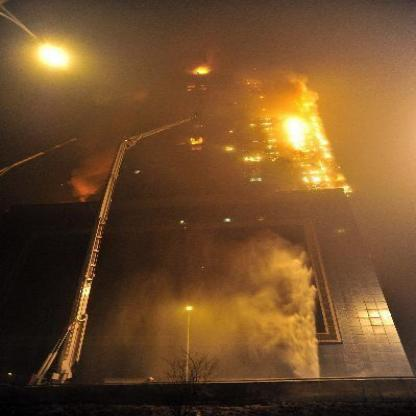fire: (262, 71, 357, 188), (182, 134, 209, 146), (190, 62, 211, 77), (240, 150, 265, 162), (224, 140, 236, 152)
other: (352, 284, 396, 340), (33, 36, 79, 72), (62, 167, 107, 200), (109, 80, 152, 104), (72, 280, 99, 298), (175, 302, 196, 314)
smoke: (254, 241, 313, 365)
